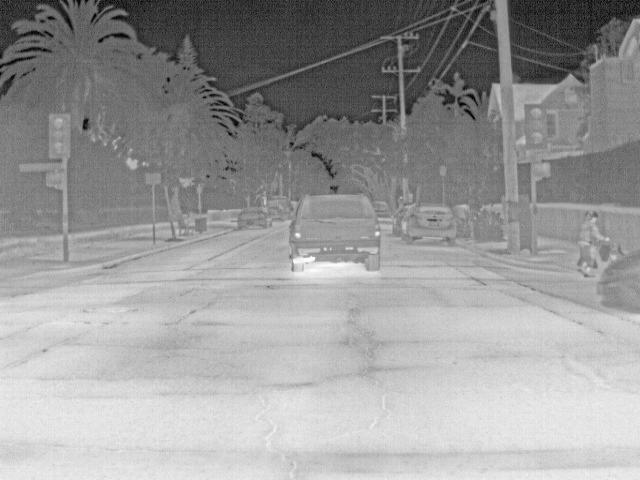car: (290, 192, 380, 273), (411, 200, 456, 246), (237, 209, 269, 230), (271, 195, 295, 214), (270, 204, 288, 222), (371, 198, 388, 216)
person: (576, 208, 612, 279), (395, 200, 413, 237), (181, 211, 195, 233)
